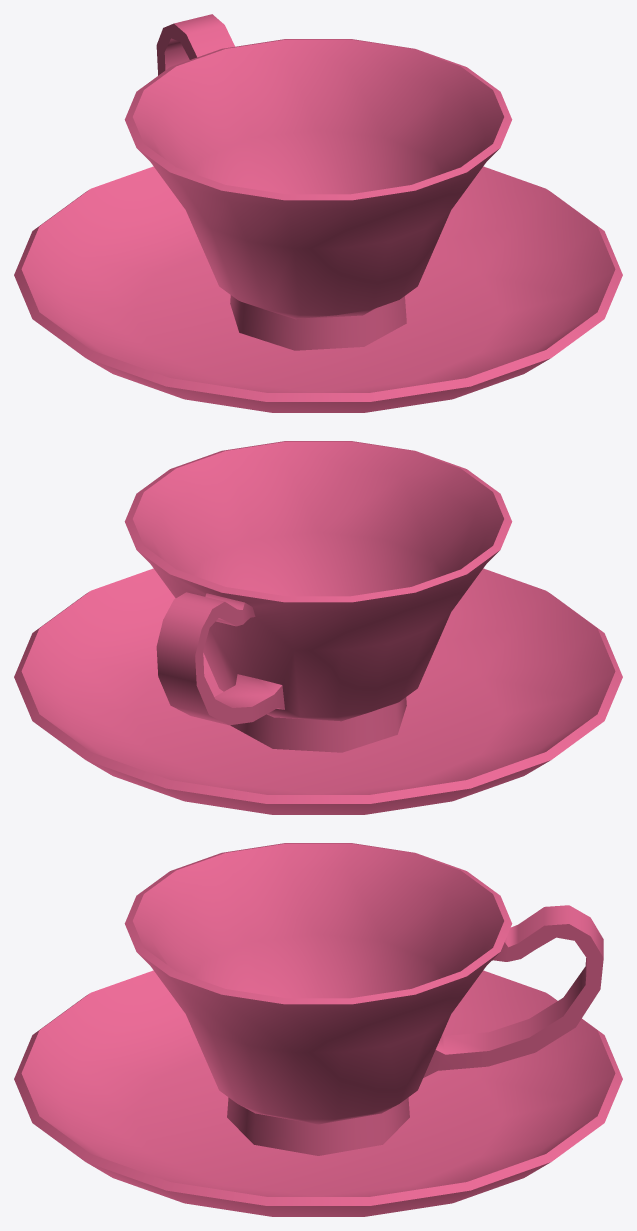
The model's file is Tableware_V4_5.fbx.
3 views of the same model, one above another, from view 1: azimuth 30°, elevation 25°; view 2: azimuth 150°, elevation 25°; view 3: azimuth 270°, elevation 25° (orthographic).
Parts seen in each view (by area): view 1: SM_Tableware_V4_5; view 2: SM_Tableware_V4_5; view 3: SM_Tableware_V4_5.
Part boxes in pixels (left/top/right/bottom): SM_Tableware_V4_5: left=14, top=14, right=622, bottom=412; SM_Tableware_V4_5: left=14, top=441, right=622, bottom=814; SM_Tableware_V4_5: left=14, top=843, right=622, bottom=1216.
Size of the model in its own units: 13.58 by 5.35 by 13.79.
